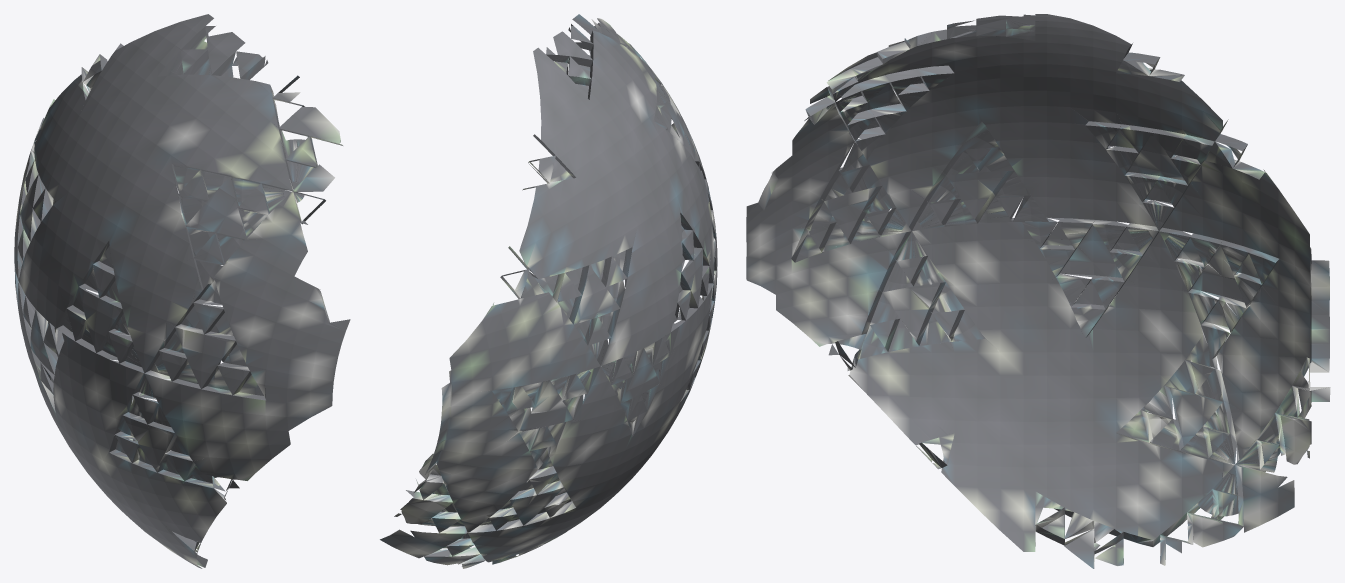
The picture shows the model from 3 angles, left to right: view 1: azimuth 30°, elevation 25°; view 2: azimuth 150°, elevation 25°; view 3: azimuth 270°, elevation 25°; orthographic projection. The views are drawn at different scales.
Bounding box in the file's own units: 0.3171 × 0.8293 × 0.7923.
